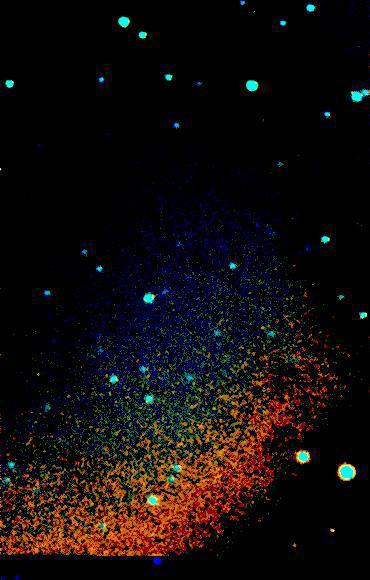star: (279, 530, 309, 560)
